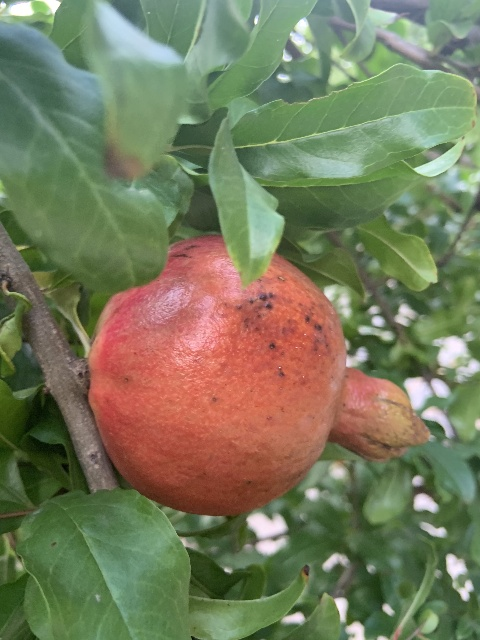ripe: (87, 234, 430, 515)
